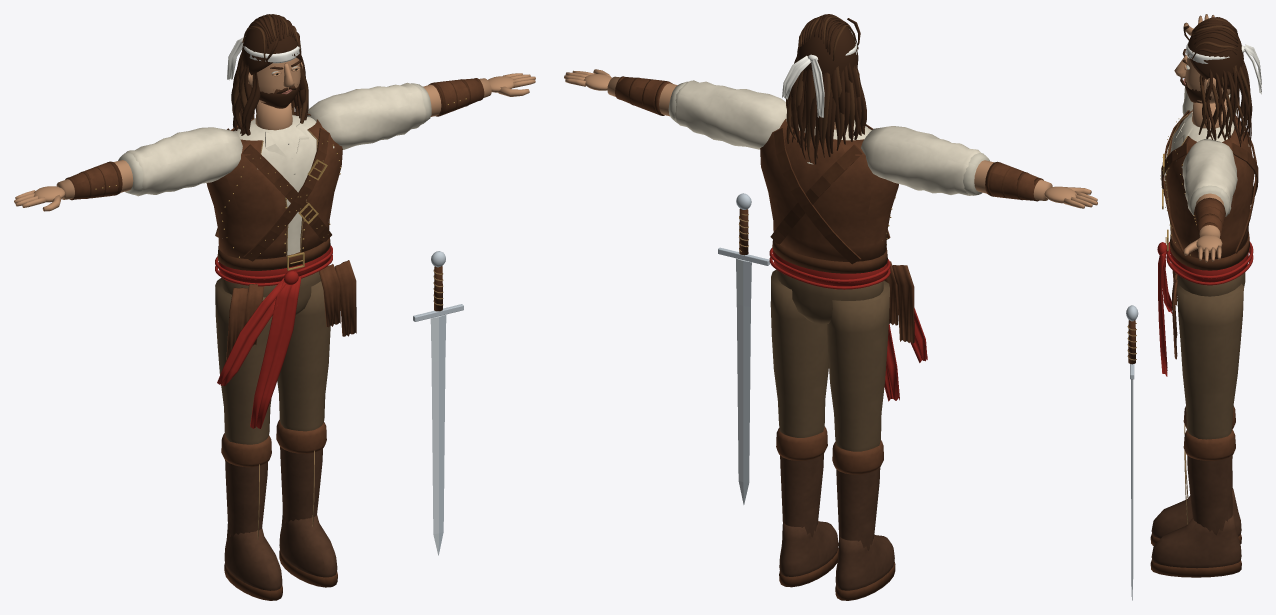
Rendered from guerrier.glb.
3 views of the same model, side by side, from view 1: azimuth 30°, elevation 25°; view 2: azimuth 150°, elevation 25°; view 3: azimuth 270°, elevation 25° (orthographic). The views are drawn at different scales.
Parts seen in each view (by area): view 1: Guerrier_Corps, Epee_Acier; view 2: Guerrier_Corps, Epee_Acier; view 3: Guerrier_Corps, Epee_Acier.
Part boxes in pixels (left/top/right/bottom): Guerrier_Corps: left=14, top=14, right=535, bottom=600; Epee_Acier: left=413, top=251, right=463, bottom=555; Guerrier_Corps: left=564, top=14, right=1097, bottom=600; Epee_Acier: left=718, top=193, right=769, bottom=504; Guerrier_Corps: left=1150, top=14, right=1261, bottom=577; Epee_Acier: left=1126, top=305, right=1138, bottom=600.
Bounding box in the file's own units: 1.79 × 1.83 × 0.4197.
19 materials, 8 textured.
